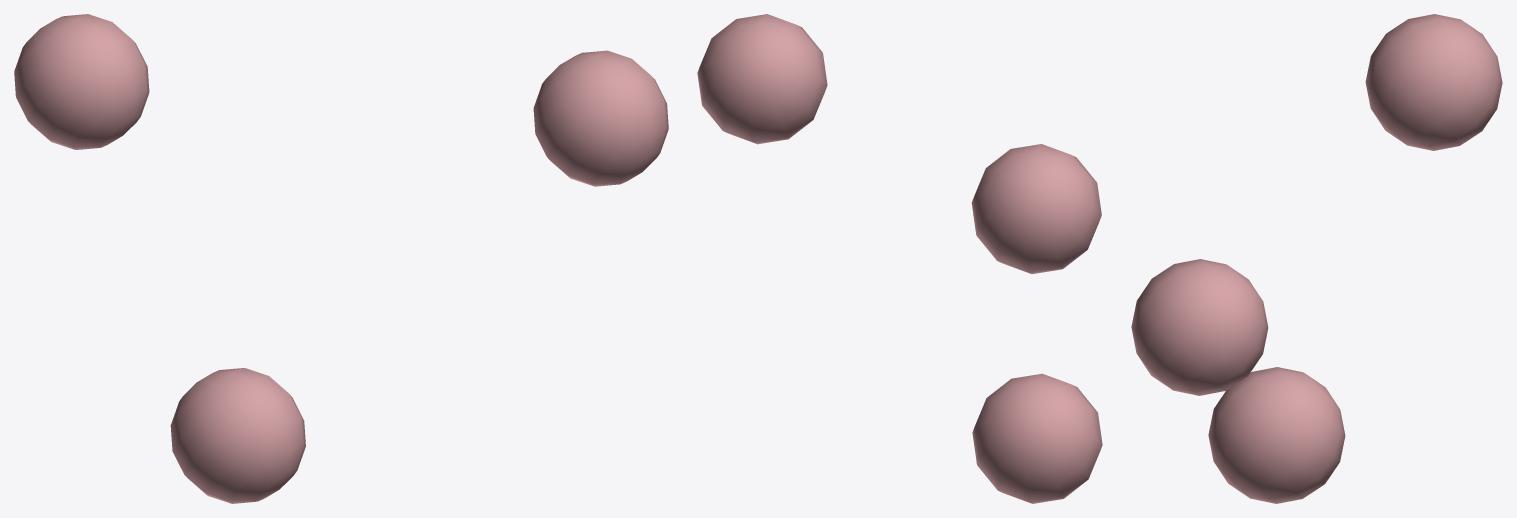
The picture shows the model from 3 angles, left to right: view 1: azimuth 30°, elevation 25°; view 2: azimuth 150°, elevation 25°; view 3: azimuth 270°, elevation 25°; orthographic projection. The views are drawn at different scales.
Visible parts, largest first — view 1: ZA_bca1bc8ef3c7a752; view 2: ZA_bca1bc8ef3c7a752; view 3: ZA_bca1bc8ef3c7a752.
Boxes of the visible parts, box(x1,y1,x2,y2) form: ZA_bca1bc8ef3c7a752: box(14, 14, 668, 503); ZA_bca1bc8ef3c7a752: box(697, 14, 1102, 503); ZA_bca1bc8ef3c7a752: box(1131, 14, 1502, 503).
Size of the model in its own units: 0.0113 by 0.00918 by 0.00704.
